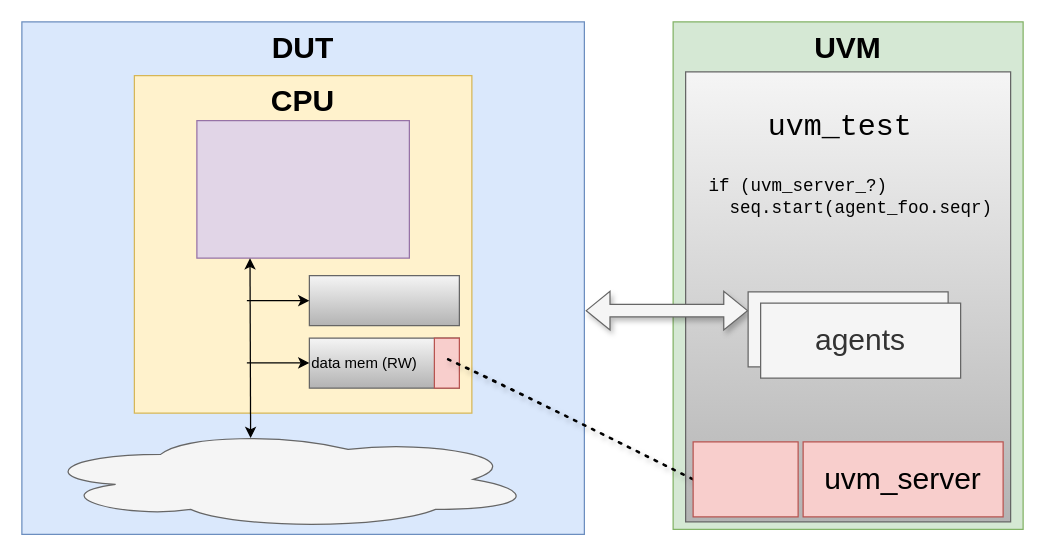
Image size: 1045x556. Some labels were removed from this diagram. The shapes that lost their labels are listed below. From the top down, each one's centre as x and y in pixels, then its label:
At [302,188]: "core".
At [383,300]: "text mem (RO)".
At [285,478]: "IPs".
At [745,479]: "monitor".
